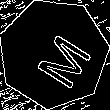M_NW: (20, 21, 87, 86)
